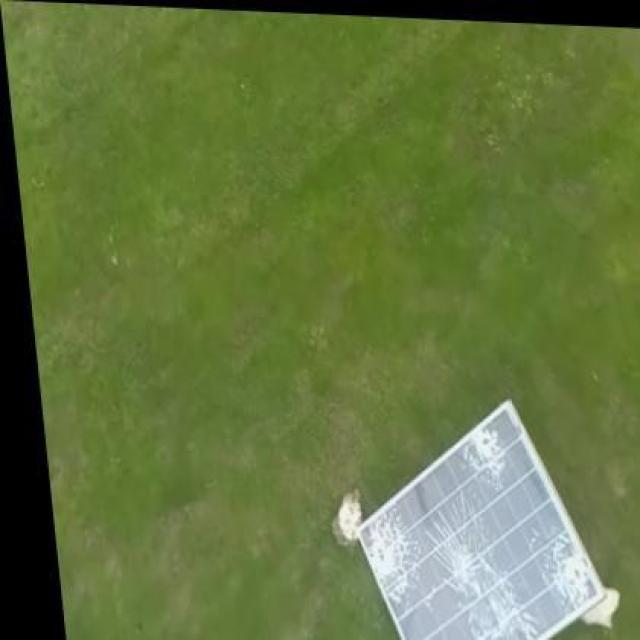cracked: (361, 399, 604, 640)
